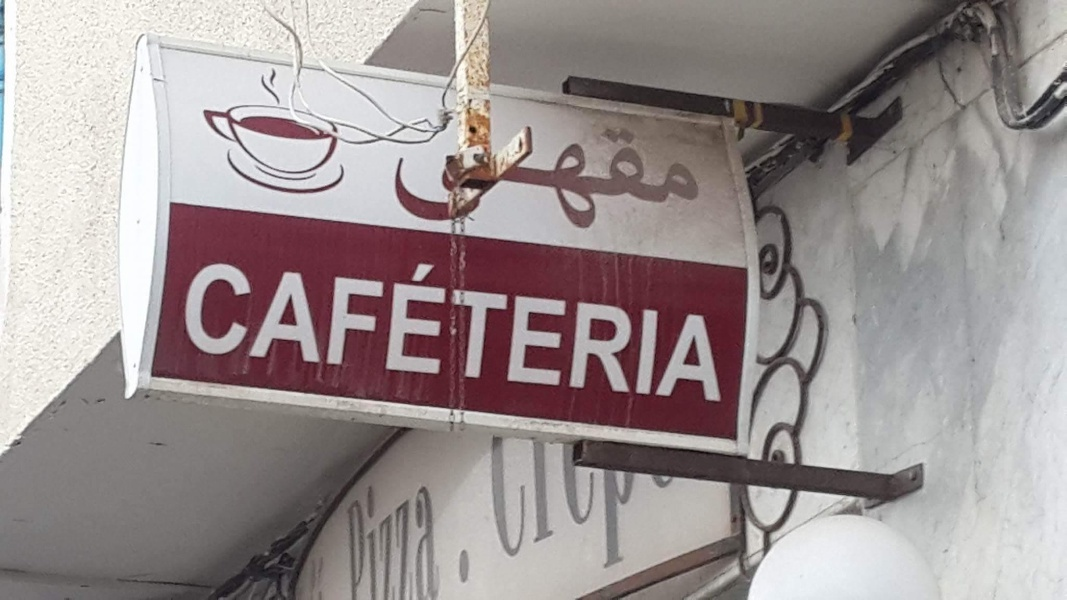text: (481, 409, 496, 598), (497, 409, 512, 598), (513, 409, 528, 598), (529, 409, 544, 598), (545, 409, 560, 598), (561, 409, 576, 598), (577, 409, 592, 598), (593, 409, 608, 598), (609, 409, 624, 598), (625, 409, 640, 598), (641, 409, 656, 598), (657, 409, 672, 598), (673, 409, 688, 598), (689, 97, 705, 257), (465, 439, 481, 598), (193, 240, 208, 406), (209, 240, 224, 406), (225, 240, 240, 406), (241, 240, 256, 406), (257, 240, 272, 406), (273, 240, 288, 406), (289, 240, 304, 406), (305, 240, 320, 406), (321, 240, 336, 406), (337, 240, 352, 406), (353, 240, 368, 406), (369, 240, 384, 406), (385, 240, 400, 406), (401, 240, 416, 406), (417, 240, 432, 406), (433, 240, 448, 406), (449, 240, 464, 406), (465, 240, 480, 406), (481, 240, 496, 406), (497, 240, 512, 406), (513, 240, 528, 406), (529, 240, 544, 406), (545, 240, 560, 406), (561, 240, 576, 406), (577, 240, 592, 406), (593, 240, 608, 406), (609, 240, 624, 406), (625, 240, 640, 406), (641, 240, 656, 406), (657, 240, 672, 406), (673, 240, 688, 406), (689, 240, 704, 406), (705, 240, 720, 406), (401, 97, 416, 257), (417, 97, 432, 257), (433, 97, 448, 257), (449, 97, 464, 257), (465, 97, 480, 257), (481, 97, 496, 257), (497, 97, 512, 257), (513, 97, 528, 257), (529, 97, 544, 257), (545, 97, 560, 257), (561, 97, 576, 257), (577, 97, 592, 257), (593, 97, 608, 257), (609, 97, 624, 257), (625, 97, 640, 257), (641, 97, 656, 257), (657, 97, 672, 257), (673, 97, 688, 257), (353, 439, 368, 598), (369, 439, 384, 598), (385, 439, 400, 598), (401, 439, 416, 598), (417, 439, 432, 598), (433, 439, 448, 598), (449, 439, 464, 598), (339, 439, 352, 598), (721, 240, 730, 406), (396, 97, 400, 257), (189, 240, 192, 406), (689, 409, 690, 598)
